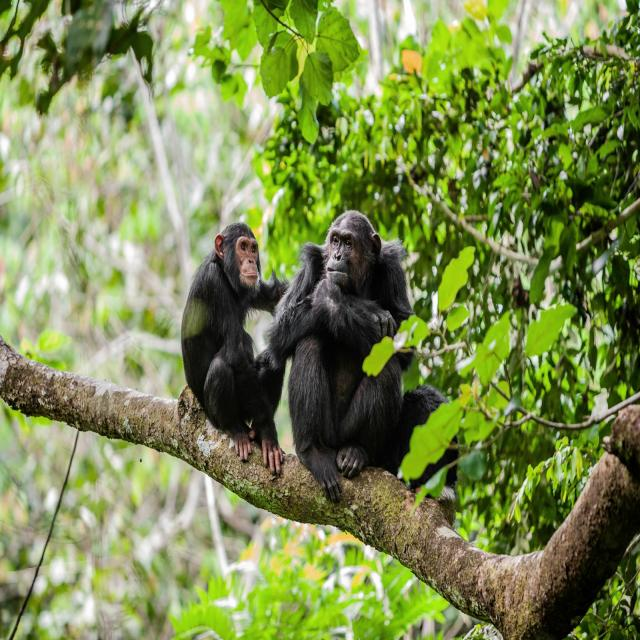chimpanzee: (268, 211, 413, 501), (181, 223, 288, 473)
